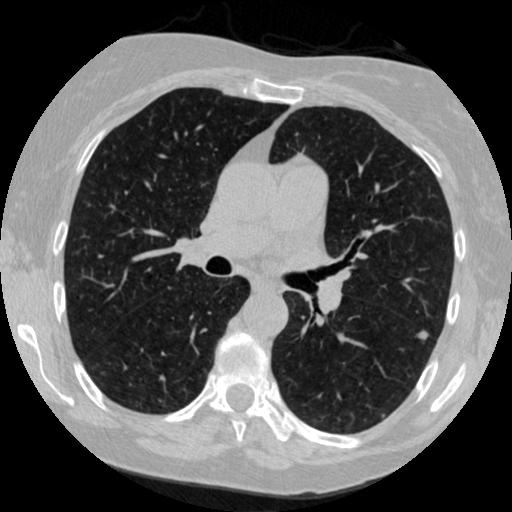nodule: (416, 328, 430, 342)
